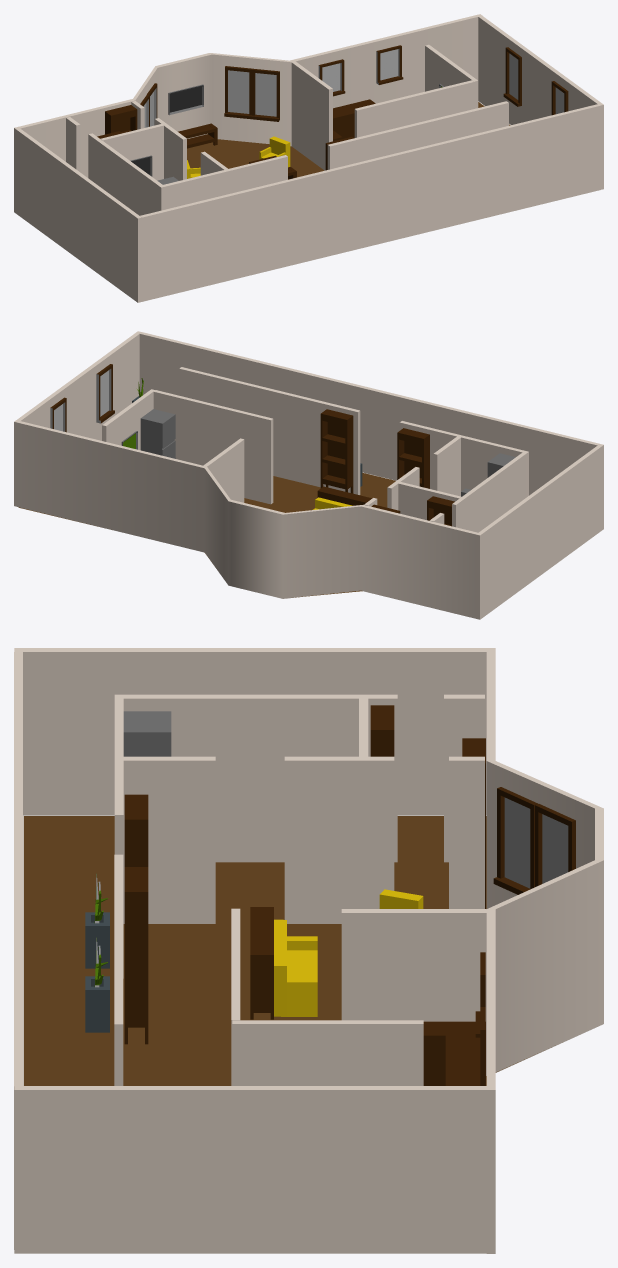
File: lvl.fbx
The picture shows the model from 3 angles, top to bottom: view 1: azimuth 30°, elevation 25°; view 2: azimuth 150°, elevation 25°; view 3: azimuth 270°, elevation 25°; orthographic projection. The views are drawn at different scales.
Parts seen in each view (by area): view 1: pCube4, pCube3, pCube13, pCube14, pCube17, pCube1, pCube8, pCube12, pCube16, pPlane1, pCube9, pCube7 (+12 smaller); view 2: pCube3, pCube4, pCube13, pCube17, pCube8, pCube14, pCube1, pCube16, pCube41, pPlane1, pCube9, pCube12 (+8 smaller); view 3: pCube14, pPlane1, pCube13, pCube9, pCube3, pCube1, pCube12, pCube15, pCube41, pCube4, pCube18, pCube58 (+11 smaller).
Part boxes in pixels (<box>): pCube4: <box>140,104,600,301</box>; pCube3: <box>18,14,482,177</box>; pCube13: <box>14,127,141,302</box>; pCube14: <box>478,16,603,189</box>; pCube17: <box>327,101,508,169</box>; pCube1: <box>66,117,162,215</box>; pCube8: <box>354,80,474,137</box>; pCube12: <box>291,61,332,170</box>; pCube16: <box>159,155,287,210</box>; pPlane1: <box>187,102,510,177</box>; pCube9: <box>131,101,227,180</box>; pCube7: <box>100,124,163,180</box>; pCube3: <box>14,420,477,618</box>; pCube4: <box>139,332,599,495</box>; pCube13: <box>476,444,603,619</box>; pCube17: <box>179,367,360,494</box>; pCube8: <box>153,390,273,504</box>; pCube14: <box>17,331,141,440</box>; pCube1: <box>429,452,526,532</box>; pCube16: <box>399,421,528,496</box>; pCube41: <box>320,409,353,493</box>; pPlane1: <box>18,472,395,597</box>; pCube9: <box>364,436,460,510</box>; pCube12: <box>203,438,244,502</box>; pCube14: <box>14,1086,486,1253</box>; pPlane1: <box>23,816,551,1085</box>; pCube13: <box>14,648,495,815</box>; pCube9: <box>123,756,484,923</box>; pCube3: <box>486,652,603,1253</box>; pCube1: <box>123,694,484,862</box>; pCube12: <box>341,909,486,1075</box>; pCube15: <box>232,1020,423,1085</box>; pCube41: <box>124,867,148,1044</box>; pCube4: <box>14,652,22,1249</box>; pCube18: <box>274,919,317,1016</box>; pCube58: <box>493,787,537,894</box>.
Bounding box in the file's own units: 57.84 × 10.07 × 32.63.
